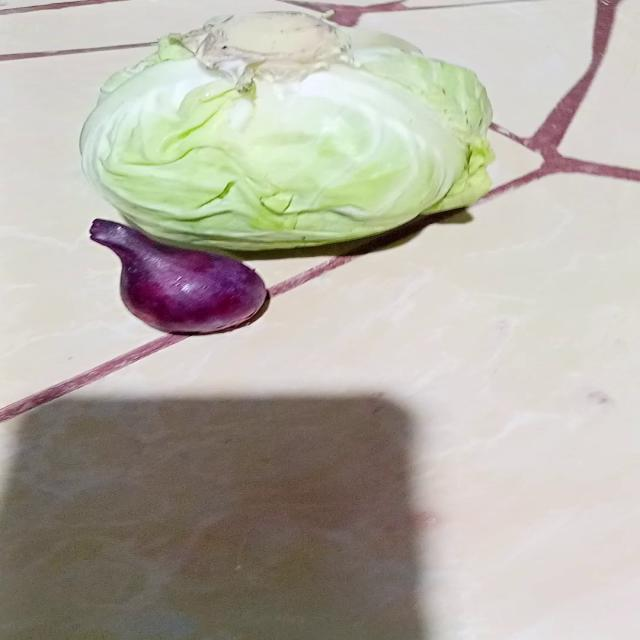cabbage: (79, 10, 493, 255)
onion: (88, 219, 271, 340)
